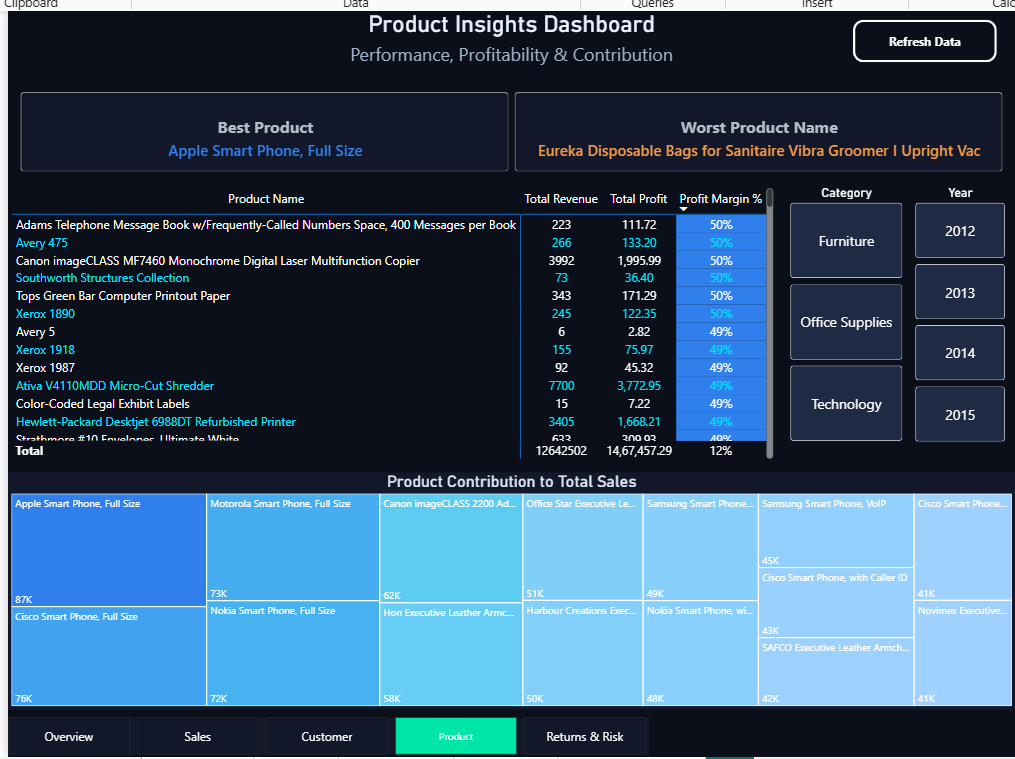

This screenshot's page, from the dashboard's own definition file:
{"tool":"powerbi","page":{"name":"Product","canvas":[1350,1000],"ordinal":3},"visuals":[{"type":"textbox","title":"Product Insights Dashboard","box":[0,0,1350,78.8],"z":0},{"type":"cardVisual","fields":{"Data":["Orders.Best Product","Orders.Worst Product Name"]},"box":[0,92.2,1350.5,140.8],"z":1000},{"type":"pivotTable","title":"Customer Segment Distribution","fields":{"Rows":["Orders.Product Name"],"Values":["Orders.Total Revenue","Orders.Total Profit","Orders.Profit Margin %"]},"box":[0,232.9,1030.5,372],"z":2000},{"type":"advancedSlicerVisual","fields":{"Values":["Date.Year"]},"box":[1211.5,232.9,130.7,350.2],"z":4000},{"type":"advancedSlicerVisual","fields":{"Values":["Orders.Category"]},"box":[1043.9,232.9,160.9,350.2],"z":6000},{"type":"actionButton","box":[1132.7,11.7,192.7,57],"z":7000},{"type":"pageNavigator","box":[0,946.2,859.6,50],"z":8000},{"type":"treemap","title":"Product Contribution to Total Sales","fields":{"Values":["Orders.Total Revenue"],"Group":["Orders.Product Name"]},"box":[0,618.3,1350.5,318.4],"z":9000}]}

Visuals, with their boxes on the page's 1350x1000 design canvas (x1, y1, x2, y2). These are canvas units, not pixel positions in the 1015x759 screenshot, which may show the page scaled, cropped or inside an application window:
"Product Insights Dashboard" textbox: <bbox>0, 0, 1350, 79</bbox>
cardVisual - Orders.Best Product x Orders.Worst Product Name: <bbox>0, 92, 1350, 233</bbox>
"Customer Segment Distribution" pivotTable: <bbox>0, 233, 1030, 605</bbox>
advancedSlicerVisual - Date.Year: <bbox>1212, 233, 1342, 583</bbox>
advancedSlicerVisual - Orders.Category: <bbox>1044, 233, 1205, 583</bbox>
actionButton: <bbox>1133, 12, 1325, 69</bbox>
pageNavigator: <bbox>0, 946, 860, 996</bbox>
"Product Contribution to Total Sales" treemap: <bbox>0, 618, 1350, 937</bbox>
